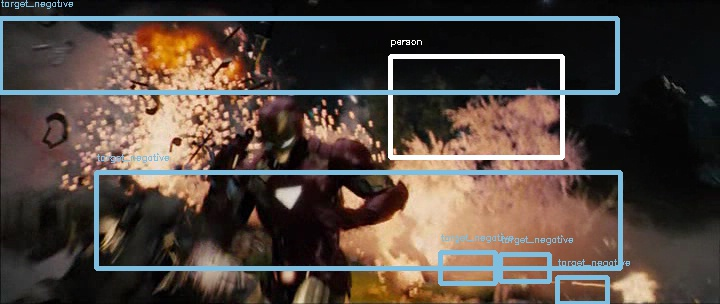person: (258, 95, 304, 163), (257, 95, 303, 163), (259, 95, 305, 163), (258, 94, 304, 162), (258, 96, 304, 164)
target_negative: (125, 121, 516, 271), (69, 220, 282, 279), (156, 192, 492, 219), (416, 247, 591, 285), (123, 137, 164, 196), (570, 112, 623, 129)
